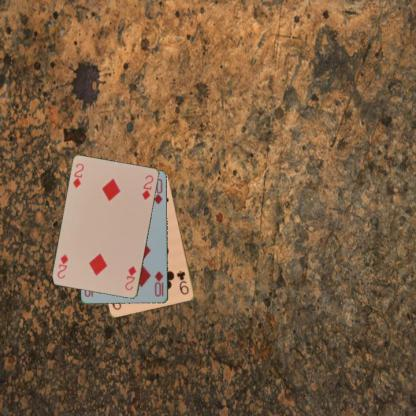10d: (152, 268, 164, 298)
2d: (122, 263, 138, 292), (70, 160, 85, 190)
9c: (174, 268, 190, 296)
